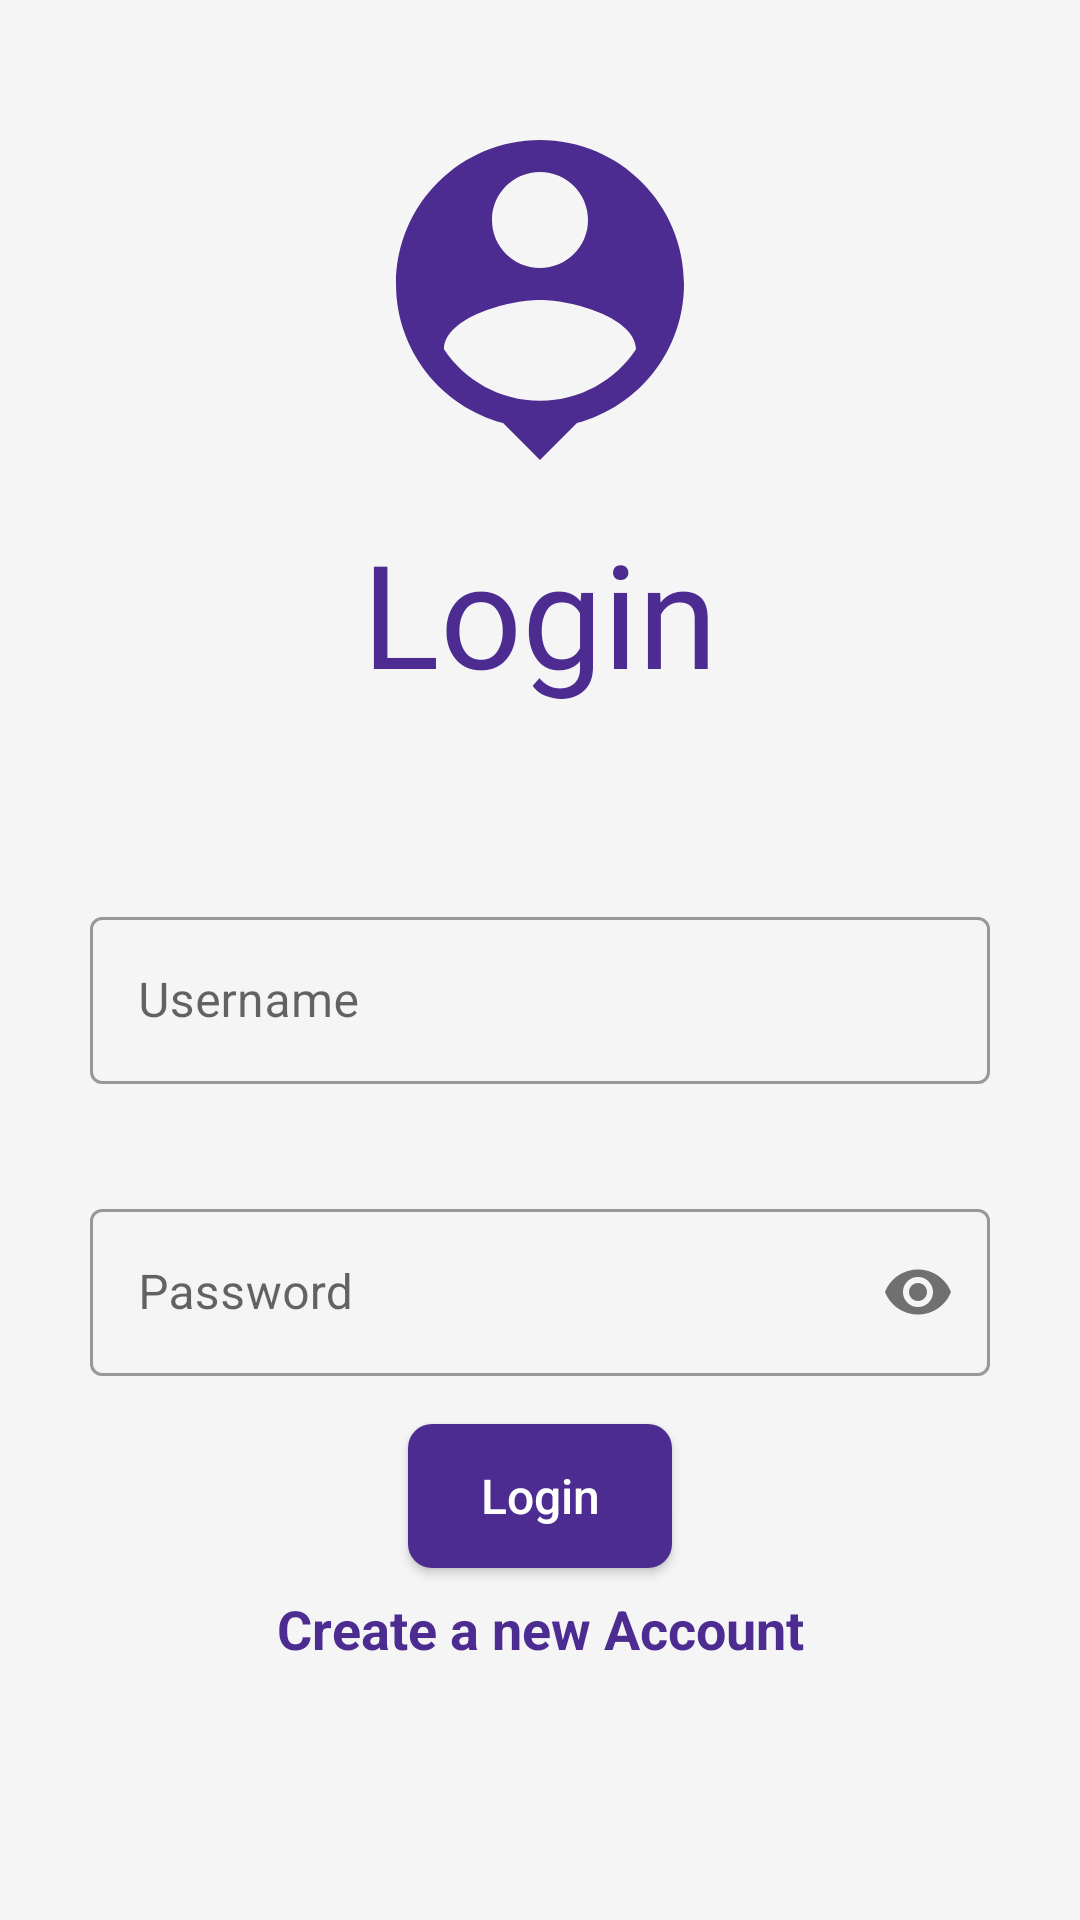

Point at icon controls on the screen. Image size 1080px×1920px, points as [x,y].
person pin: [540,300]
